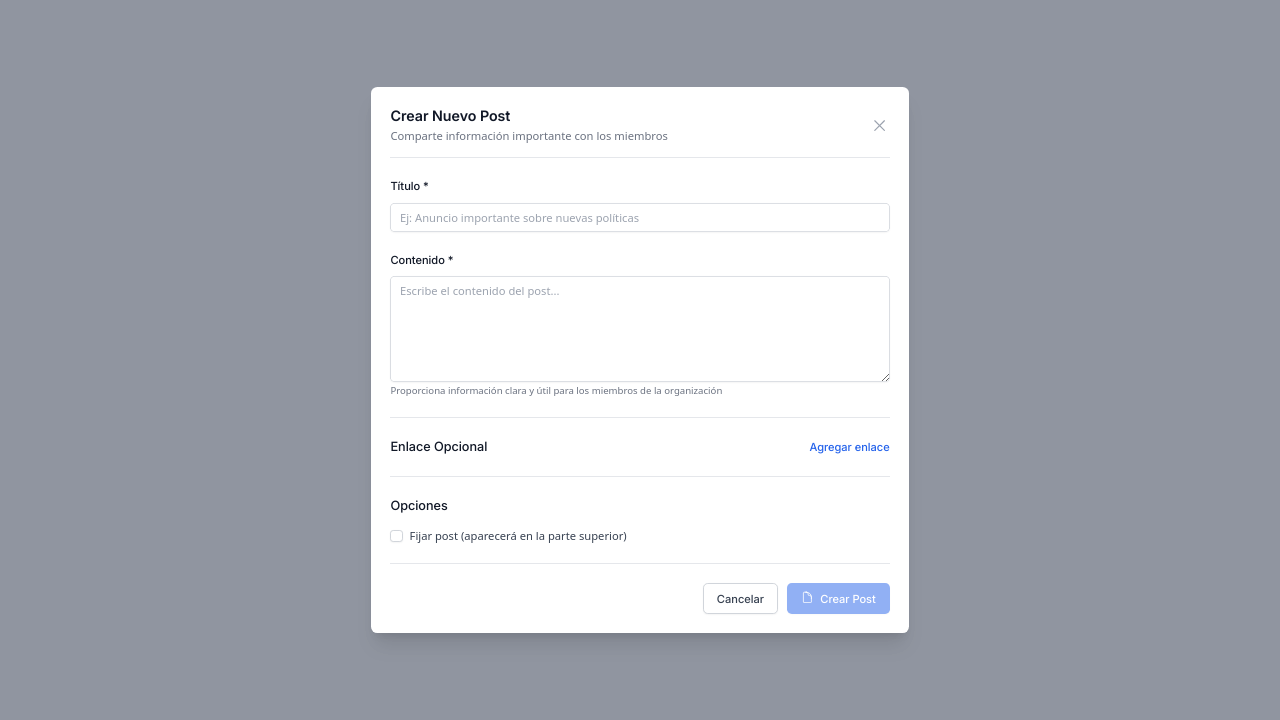
it: PostFormModal.vue › submit button enables when title/content are valid
This screenshot has width=1280, height=720.
Expected: the submit button is disabled, top-left (787, 583), bottom-right (890, 614)
Type "  Title  " into the field with id "title" at (640,217), box top-left (390, 203), bottom-right (890, 232)
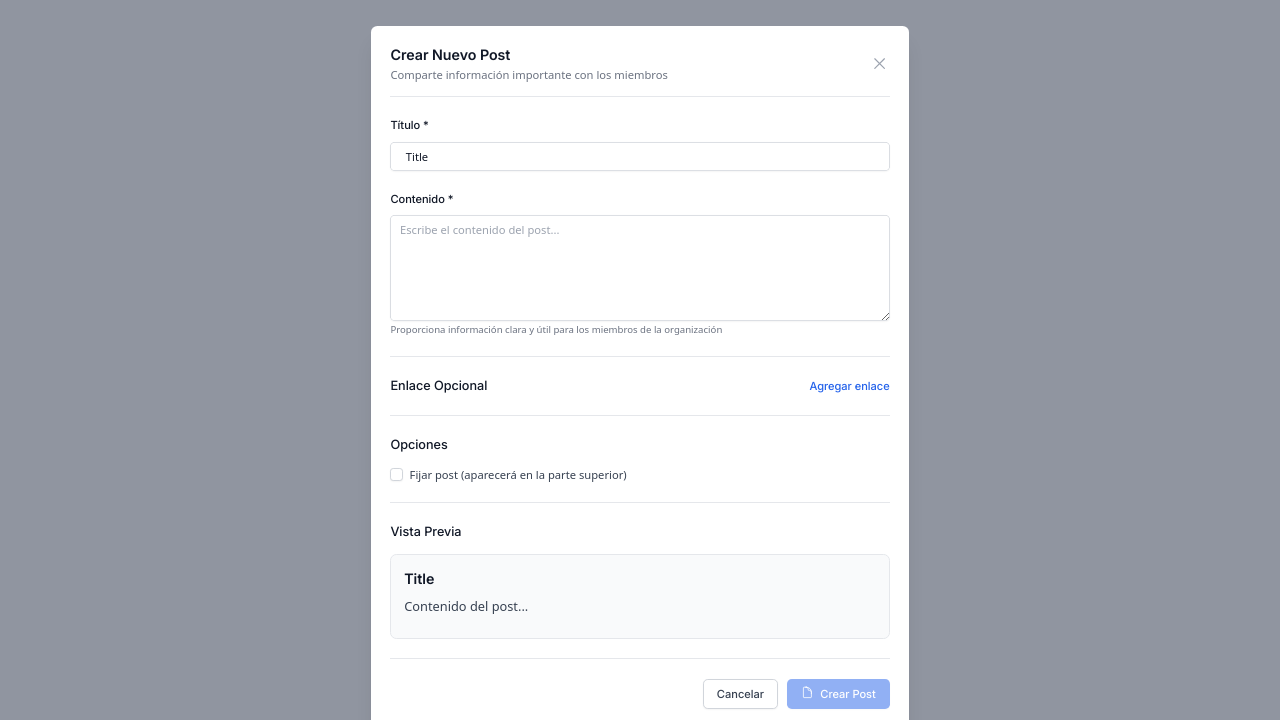
Expected: the submit button is disabled, top-left (787, 679), bottom-right (890, 710)
Type "  Content  " into the text box labelled "Contenido *" at (640,268), box top-left (390, 215), bottom-right (890, 321)
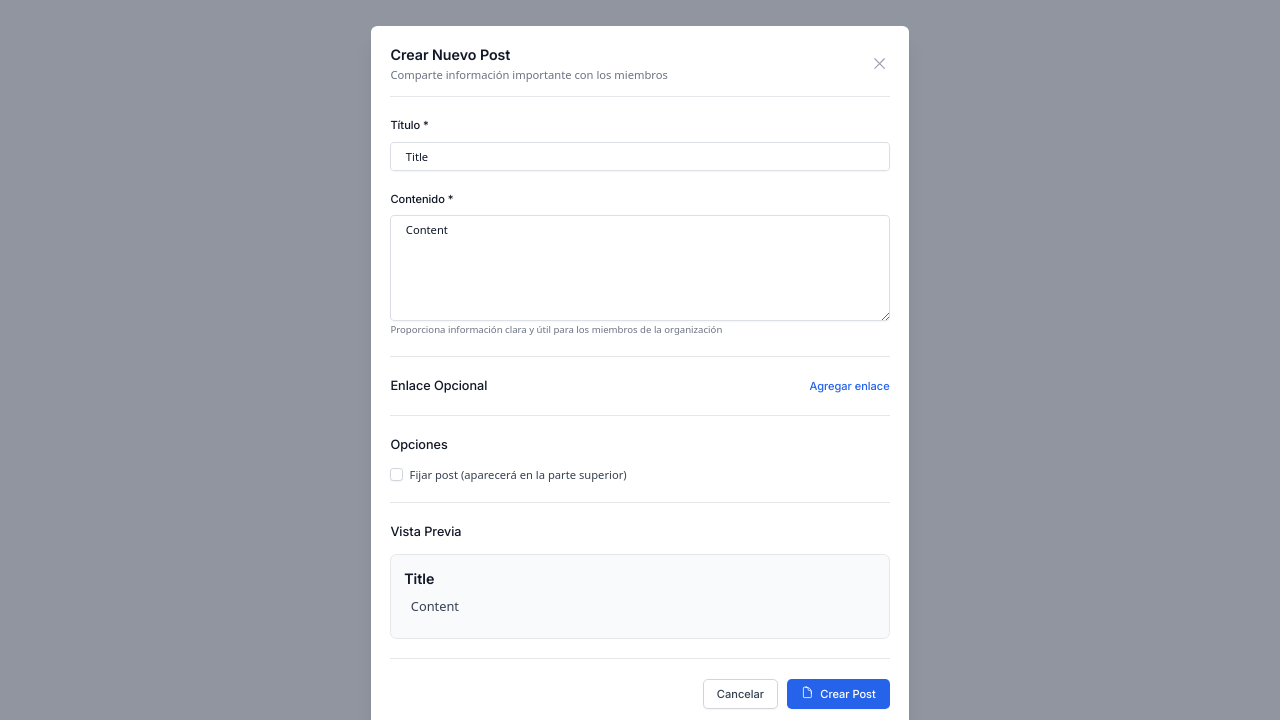
Now the submit button is enabled, box top-left (787, 679), bottom-right (890, 710)
